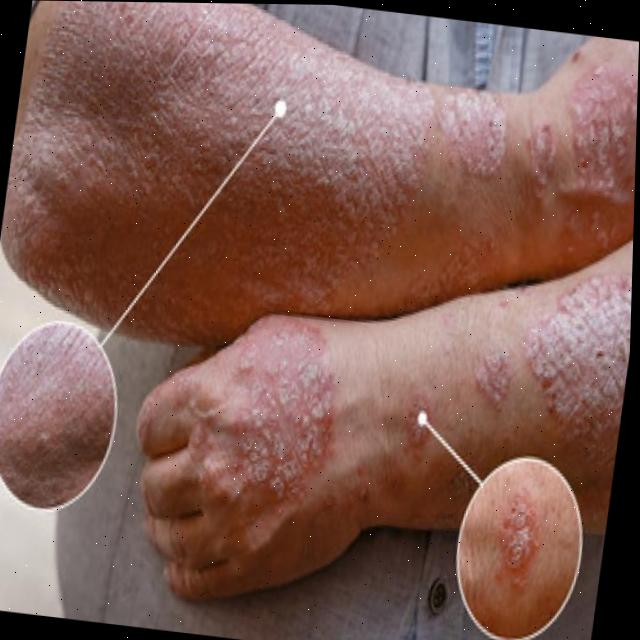Eczema: (30, 1, 640, 560)
